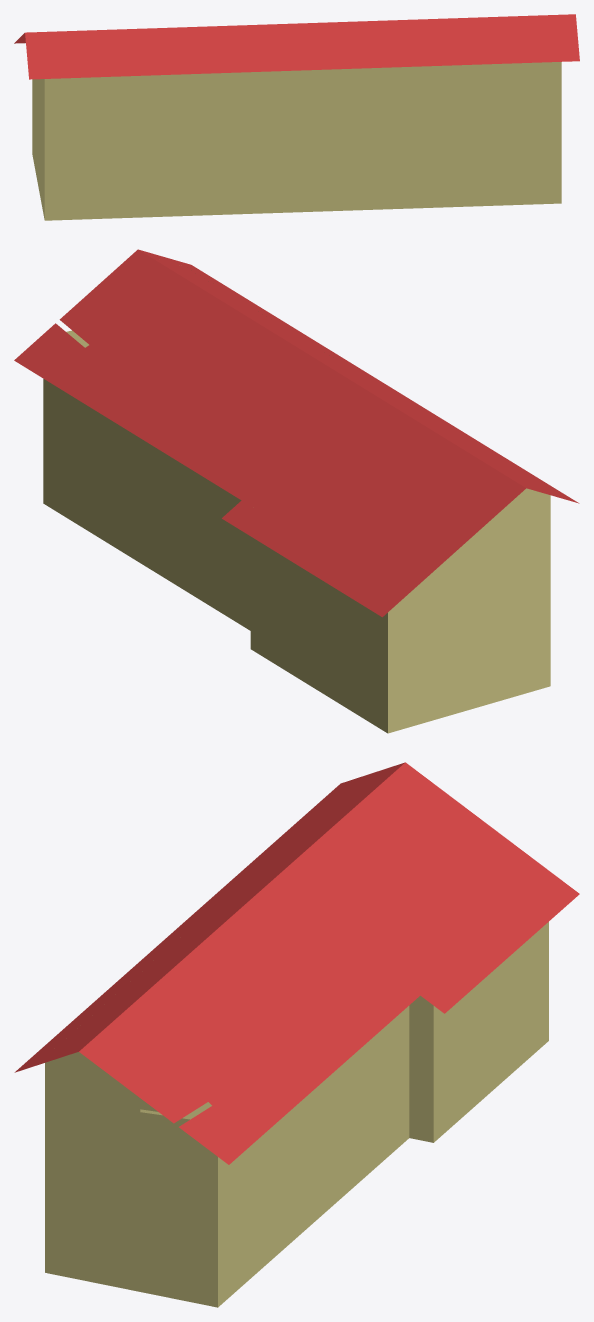
3 views of the same model, one above another, from view 1: azimuth 30°, elevation 25°; view 2: azimuth 150°, elevation 25°; view 3: azimuth 270°, elevation 25° (orthographic). The views are drawn at different scales.
Size of the model in its own units: 25.35 by 18.22 by 8.48.
